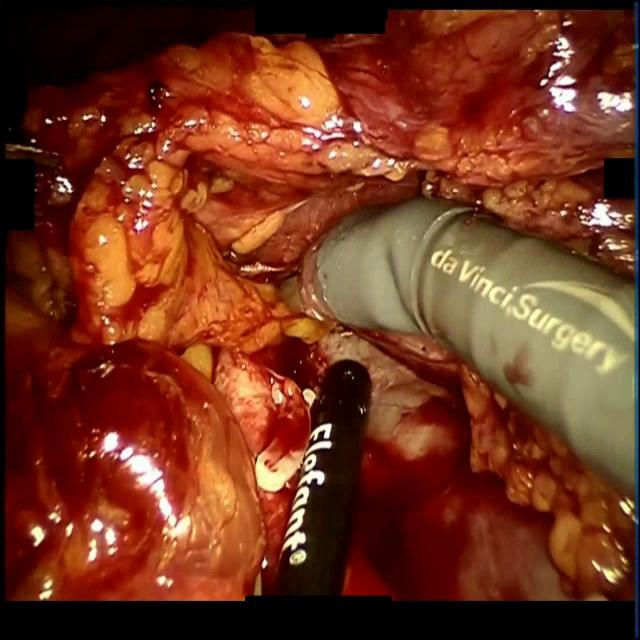surgical-area: (2, 10, 636, 604)
surgical-tool: (274, 193, 636, 496), (270, 358, 372, 594)
